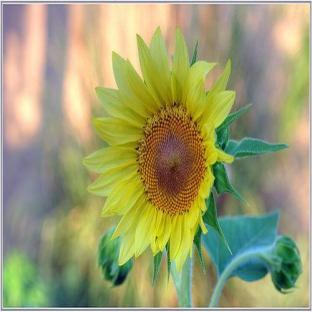sunflower: (82, 28, 290, 308)
